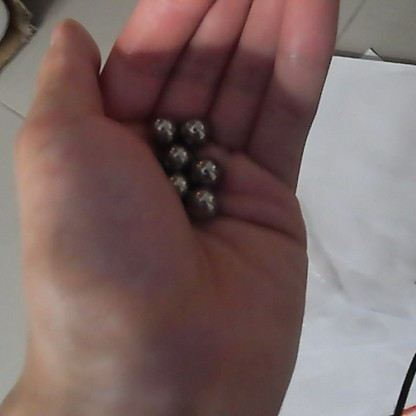ironball: (183, 185, 216, 220), (189, 154, 222, 188), (148, 113, 177, 145), (179, 116, 209, 146), (160, 142, 190, 171), (166, 169, 189, 200)
